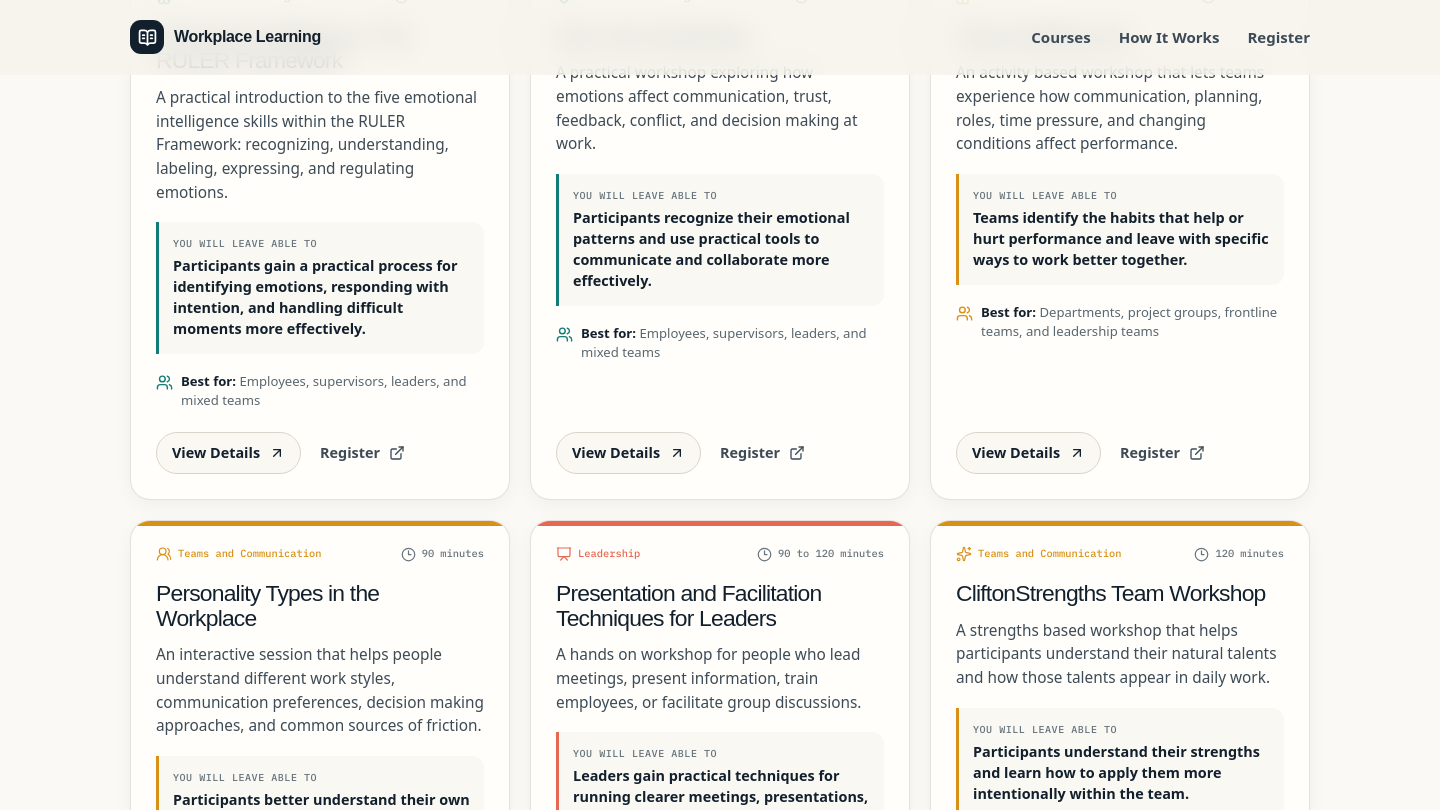
Test: course details › closes when the backdrop is selected
(page scrolled)
What coordinates should you click on to do the following:
click the button named "View details for Team Building 101"
I would click on:
 (1028, 453)
Its box is [956,432,1101,474].
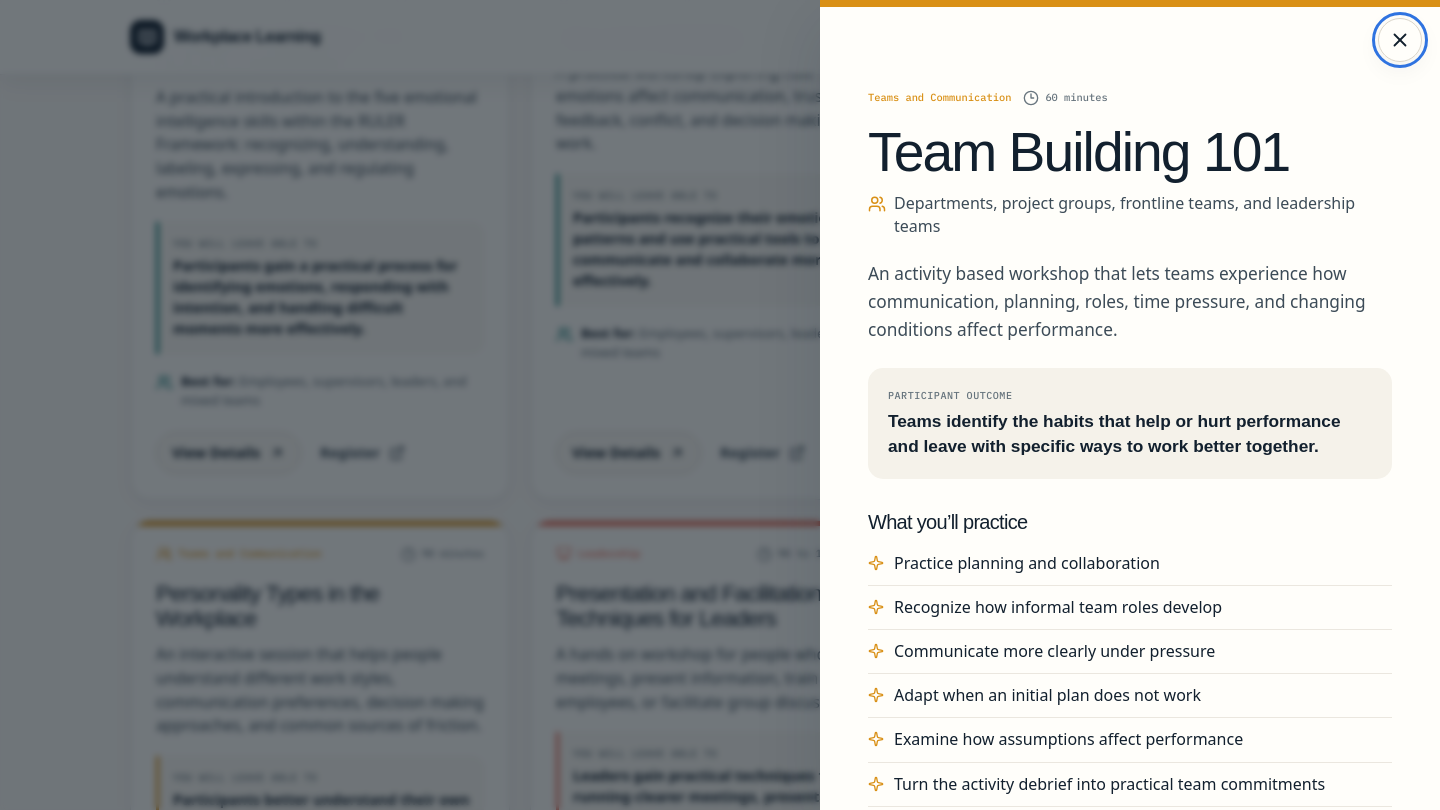
What coordinates should you click on to do the following:
click the element with test id "course-detail-overlay"
I would click on:
 (720, 405)
Its box is [0,0,1439,809].
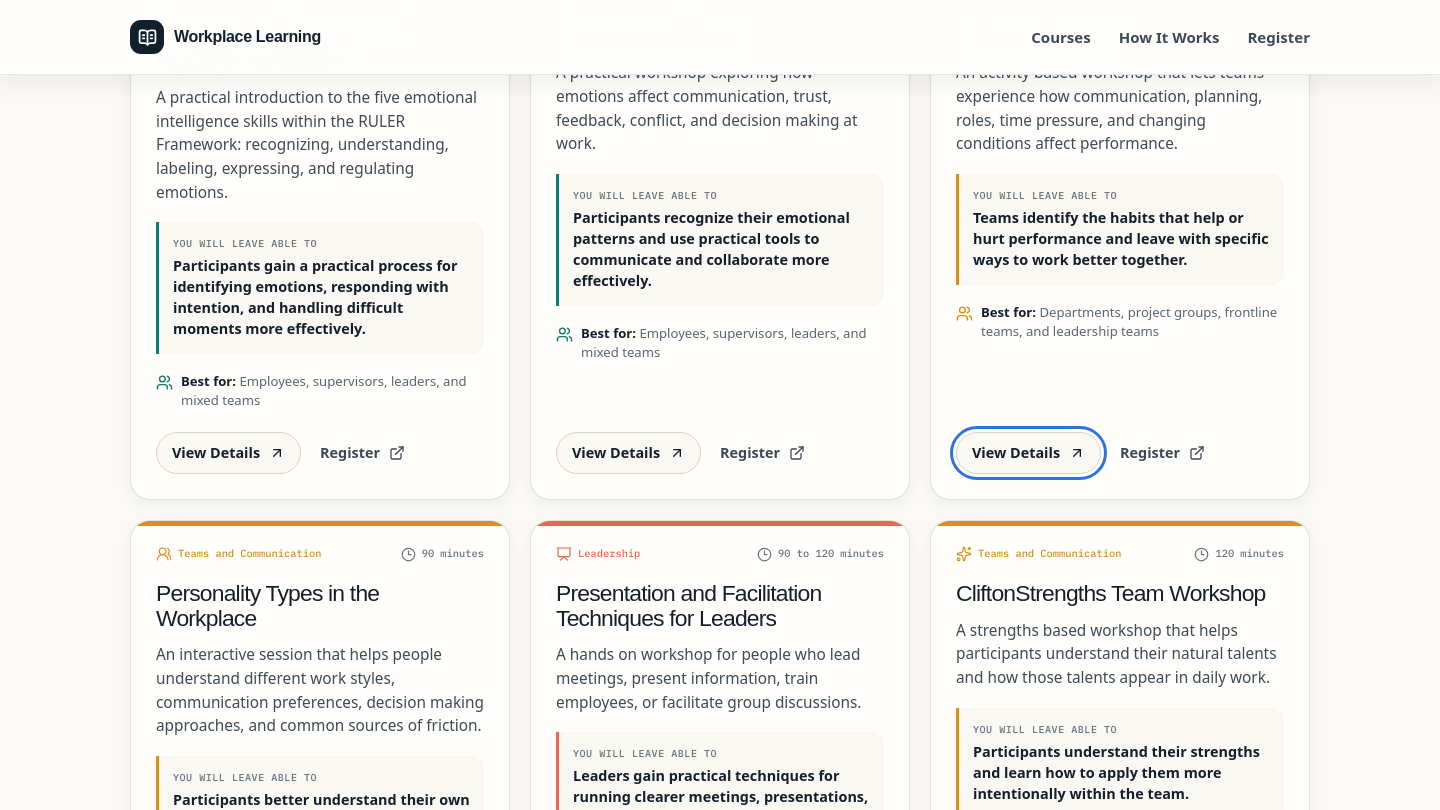
Expected: the dialog is gone
